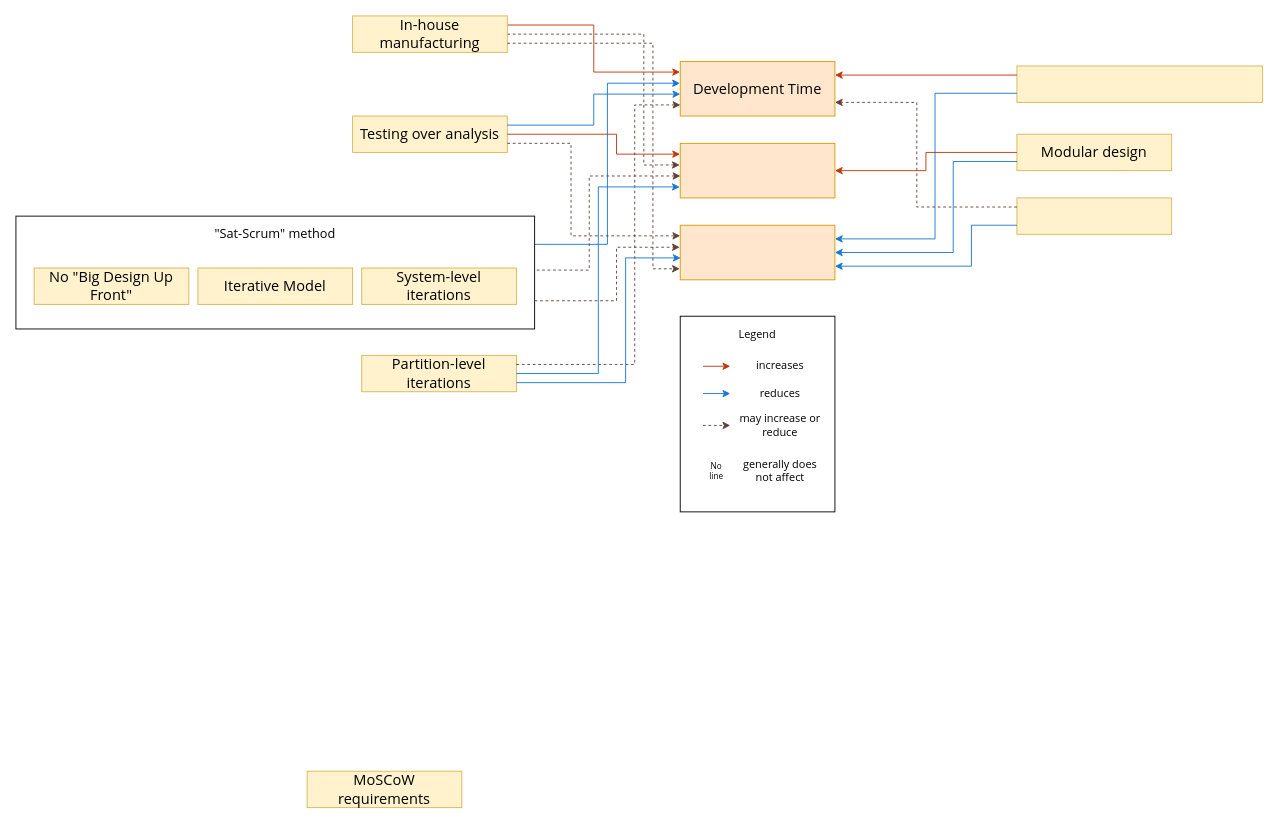
Image size: 1279x824. Some labels were removed from this diagram. The shapes that lost their labels are listed below. From the top down, each one's centre as x and y in pixels, then its label:
At (1139,83): "Model-based Engineering Data Management & Documentation".
At (757,170): "Non-Labour Cost".
At (1094,215): "Robust software framework".
At (757,252): "Risk".
